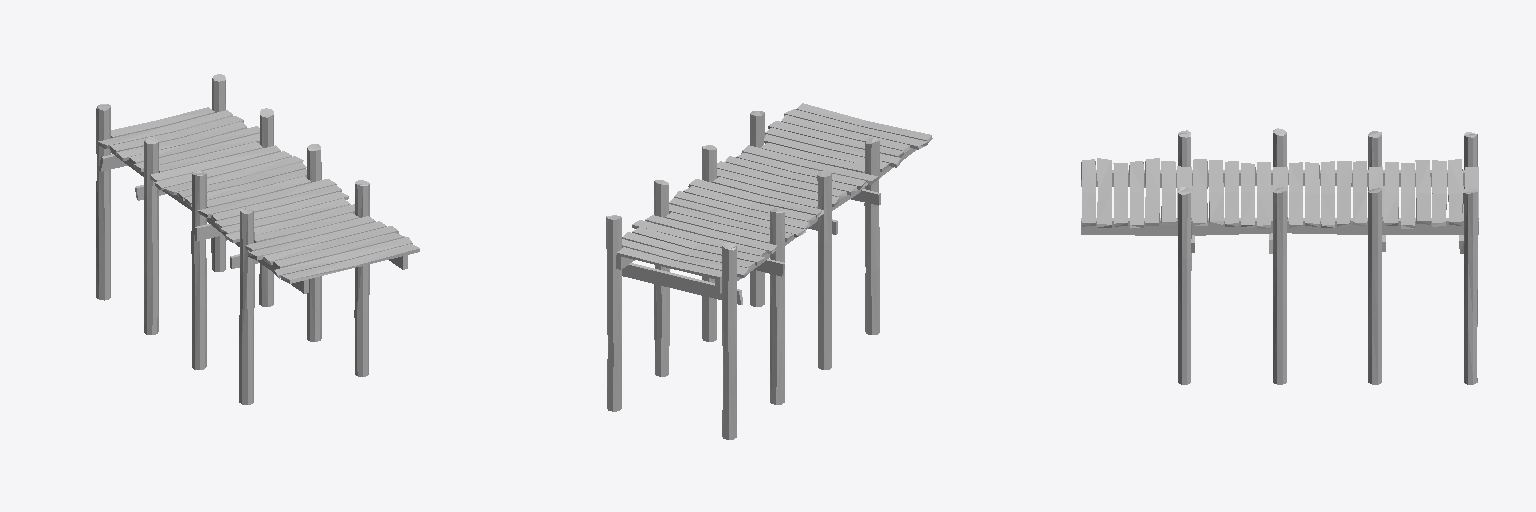
The model's file is docks.obj.
3 renders of one model, left to right at view 1: azimuth 30°, elevation 25°; view 2: azimuth 150°, elevation 25°; view 3: azimuth 270°, elevation 25°, orthographic.
Visible parts, largest first — view 1: docks; view 2: docks; view 3: docks.
Boxes of the visible parts, x1=… form: docks: x1=96, y1=74, x2=419, y2=404; docks: x1=606, y1=103, x2=932, y2=439; docks: x1=1081, y1=128, x2=1478, y2=384.
Size of the model in its own units: 3.36 by 4.5 by 8.34.